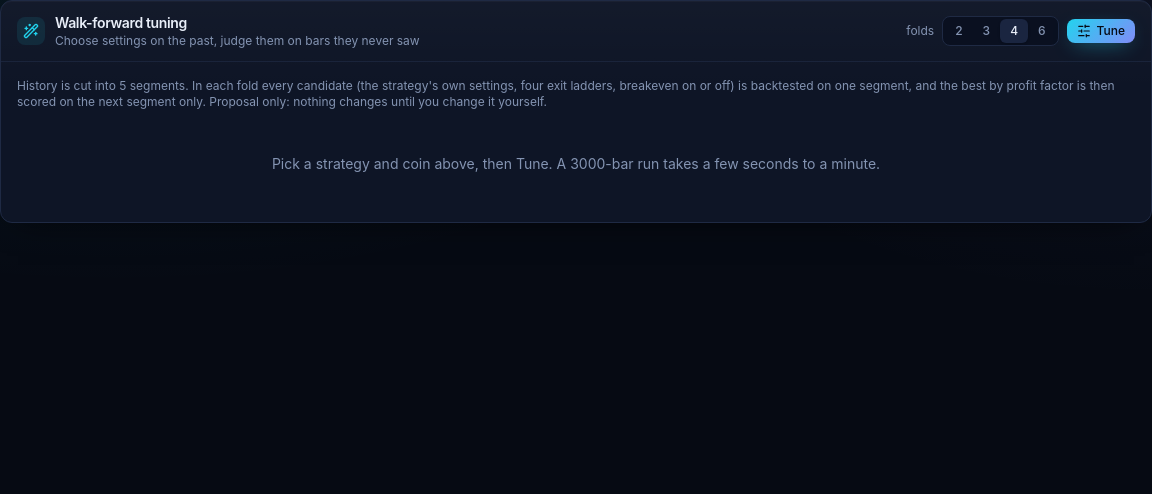
Test case: Walk-forward tuning panel › asks the server to tune, then shows out-of-sample results as a proposal only
This screenshot has width=1152, height=494.
Click the button "Tune": (1101, 31) [1067,19,1135,43]
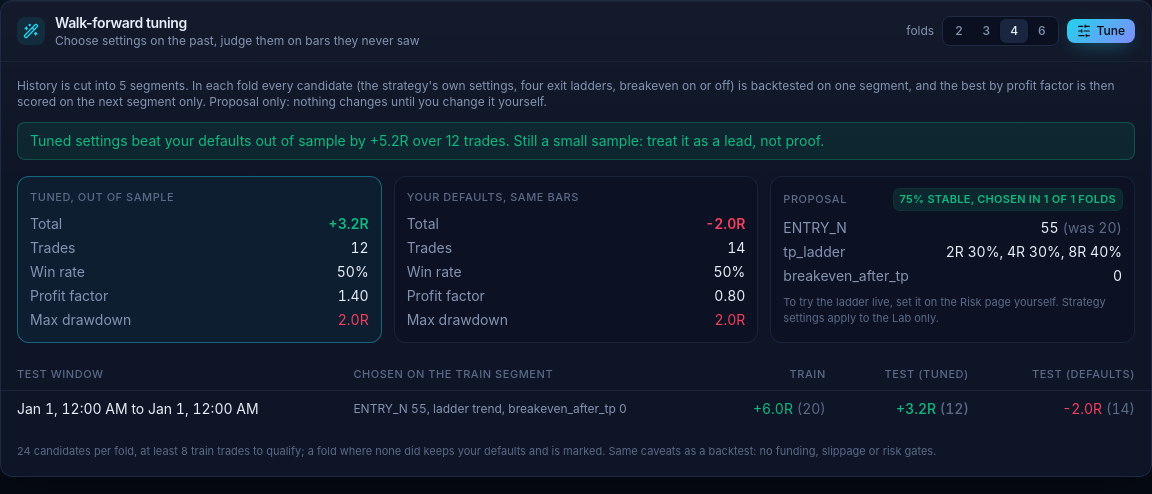
Expected: the text "proposal only" is shown, [17,78,1114,109]
Expected: the text "beat your defaults" is shown, [30,132,370,149]
Expected: the text "75% stable, chosen in 1 of 1 folds" is shown, [900,191,1116,208]
